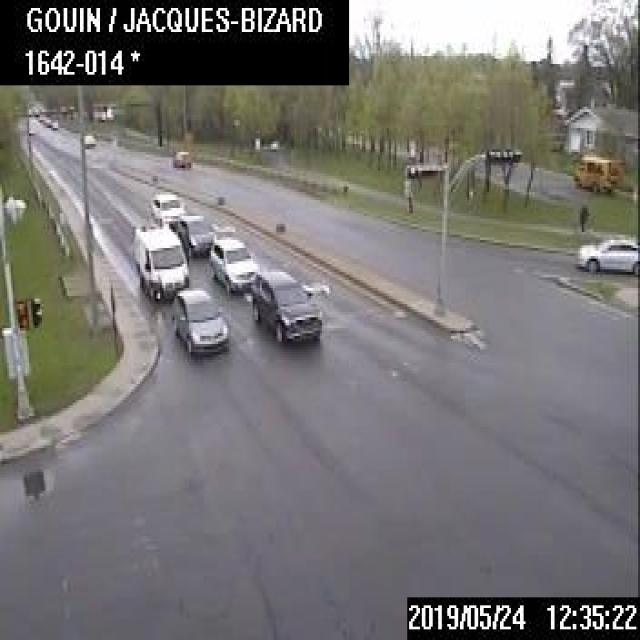bus: (571, 154, 618, 190)
vehicle: (250, 268, 320, 342), (132, 222, 188, 300), (170, 286, 228, 351), (208, 235, 256, 292), (575, 236, 638, 272), (177, 212, 212, 254), (150, 192, 185, 225), (171, 150, 190, 166), (83, 133, 95, 146), (42, 117, 51, 124), (51, 119, 57, 127), (37, 113, 44, 119)
